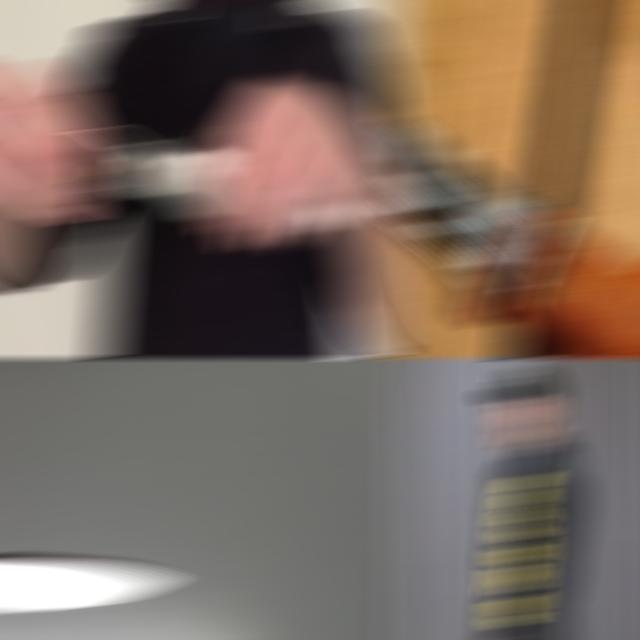Knife: (0, 556, 171, 610)
Knife_Handle: (0, 59, 349, 251)
